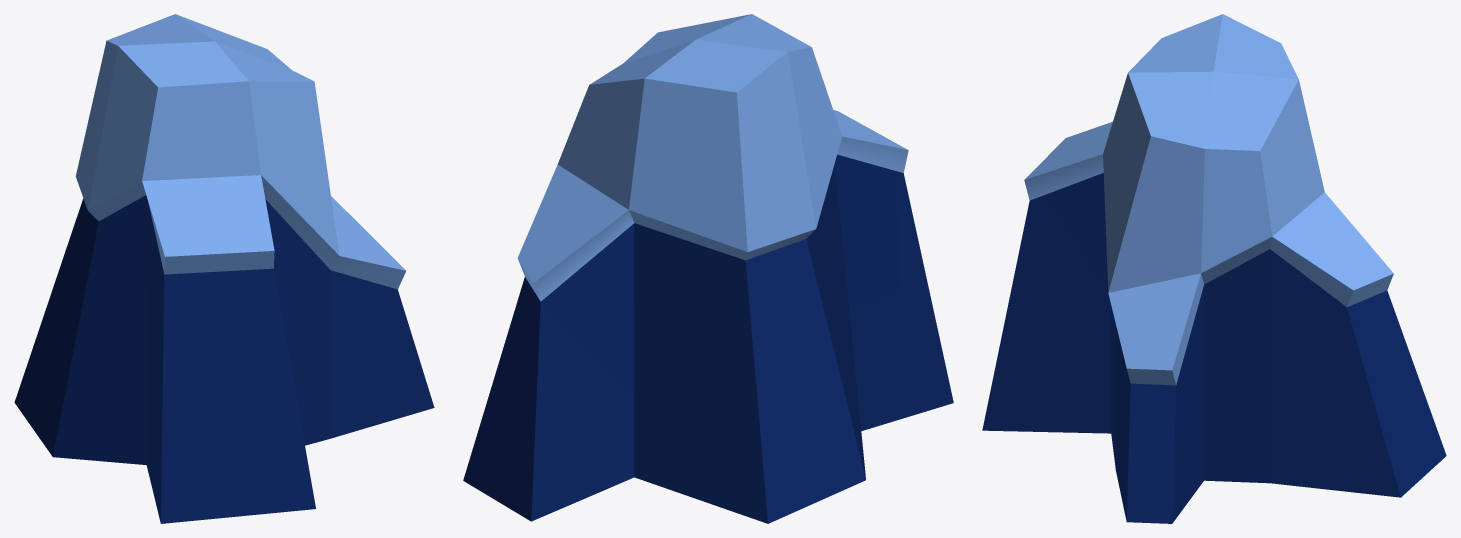
The model's file is Rock_4.fbx.
The picture shows the model from 3 angles, left to right: view 1: azimuth 30°, elevation 25°; view 2: azimuth 150°, elevation 25°; view 3: azimuth 270°, elevation 25°; orthographic projection. The views are drawn at different scales.
Parts seen in each view (by area): view 1: Rock_4; view 2: Rock_4; view 3: Rock_4.
Boxes of the visible parts, left/top/right/bottom form: Rock_4: left=14, top=14, right=434, bottom=523; Rock_4: left=463, top=14, right=953, bottom=523; Rock_4: left=982, top=14, right=1446, bottom=523.
Bounding box in the file's own units: 7.2 × 7.91 × 8.73.
